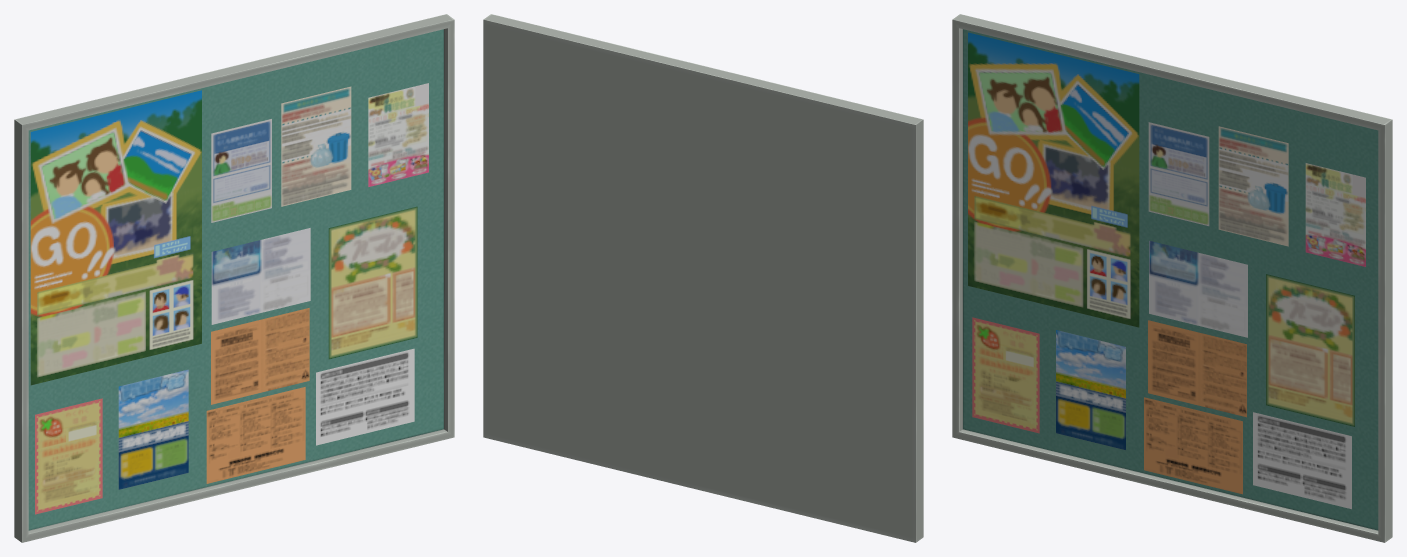
Rendered from SHW_Board_01_02.fbx.
3 views of the same model, side by side, from view 1: azimuth 30°, elevation 25°; view 2: azimuth 150°, elevation 25°; view 3: azimuth 330°, elevation 25° (orthographic).
Parts seen in each view (by area): view 1: board01_01, paperB2_01, paperB5_01, paperA4_02, paperA4_01, paperA4_03, paperA4_06, paperA4_04, paperA4_05, paperB5_02, paperB5_03, paperB5_04; view 2: board01_01; view 3: board01_01, paperB2_01, paperB5_01, paperA4_02, paperA4_03, paperA4_04, paperA4_05, paperA4_06, paperA4_01, paperB5_02, paperB5_04, paperB5_03.
Part boxes in pixels (x1,y1,x2,y2): board01_01: [14, 14, 454, 542]; paperB2_01: [30, 90, 201, 385]; paperB5_01: [328, 206, 417, 359]; paperA4_02: [281, 86, 351, 206]; paperA4_01: [118, 369, 188, 489]; paperA4_03: [211, 228, 310, 324]; paperA4_06: [206, 387, 305, 483]; paperA4_04: [316, 348, 414, 445]; paperA4_05: [211, 308, 309, 404]; paperB5_02: [35, 398, 102, 514]; paperB5_03: [368, 83, 428, 186]; paperB5_04: [211, 119, 271, 222]; board01_01: [483, 14, 923, 542]; board01_01: [952, 14, 1392, 542]; paperB2_01: [968, 32, 1139, 327]; paperB5_01: [1266, 274, 1354, 426]; paperA4_02: [1218, 126, 1288, 246]; paperA4_03: [1149, 240, 1247, 337]; paperA4_04: [1253, 412, 1351, 509]; paperA4_05: [1148, 320, 1246, 417]; paperA4_06: [1144, 397, 1242, 494]; paperA4_01: [1056, 330, 1125, 450]; paperB5_02: [972, 317, 1039, 433]; paperB5_04: [1148, 122, 1209, 226]; paperB5_03: [1305, 163, 1365, 266].
Bounding box in the file's own units: 130 × 120 × 4.
